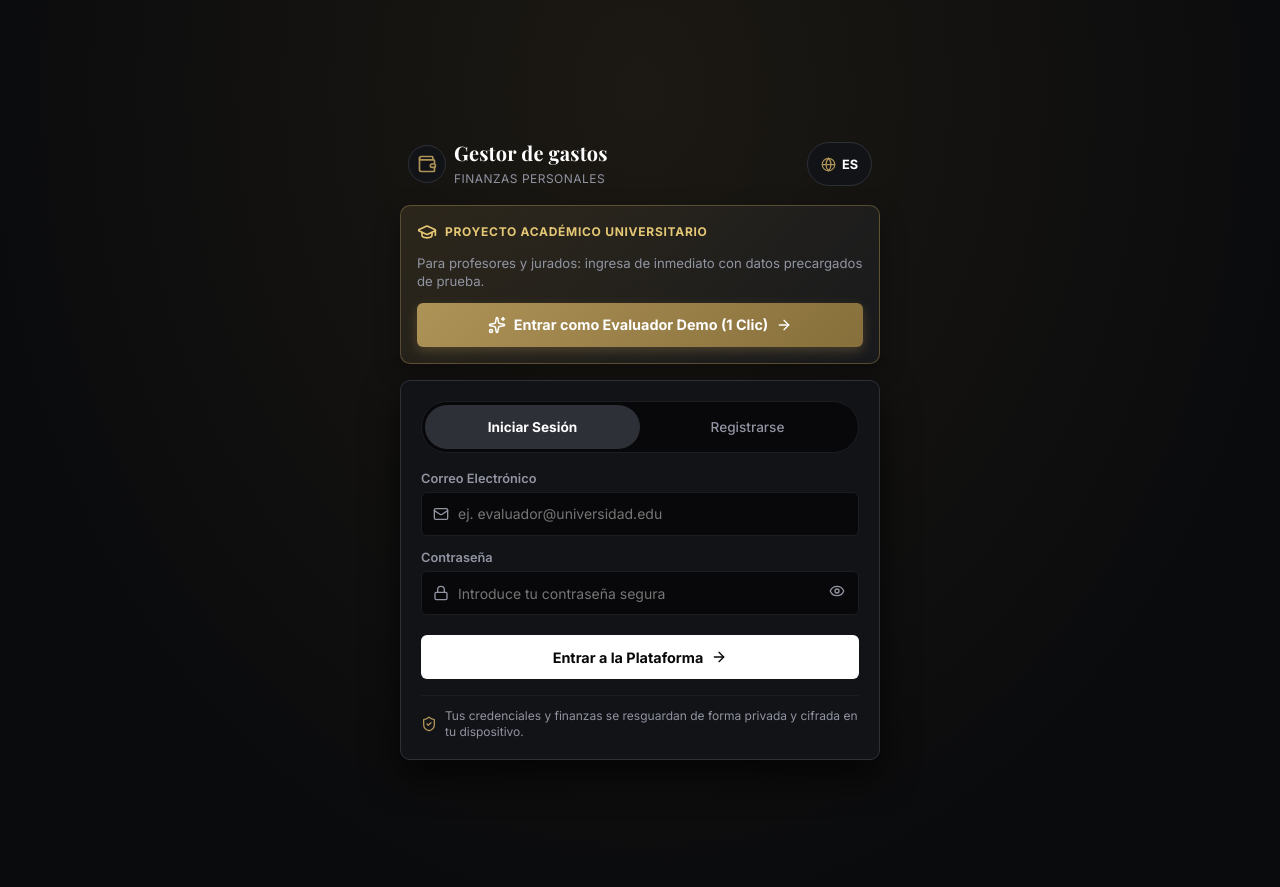
it: Autenticación y Perfiles Universitarios (Opción A) › permite cerrar sesión y redirige nuevamente al login
Click the button "Entrar como Evaluador Demo (1 Clic)" at (640, 325), box [417,303,863,347]
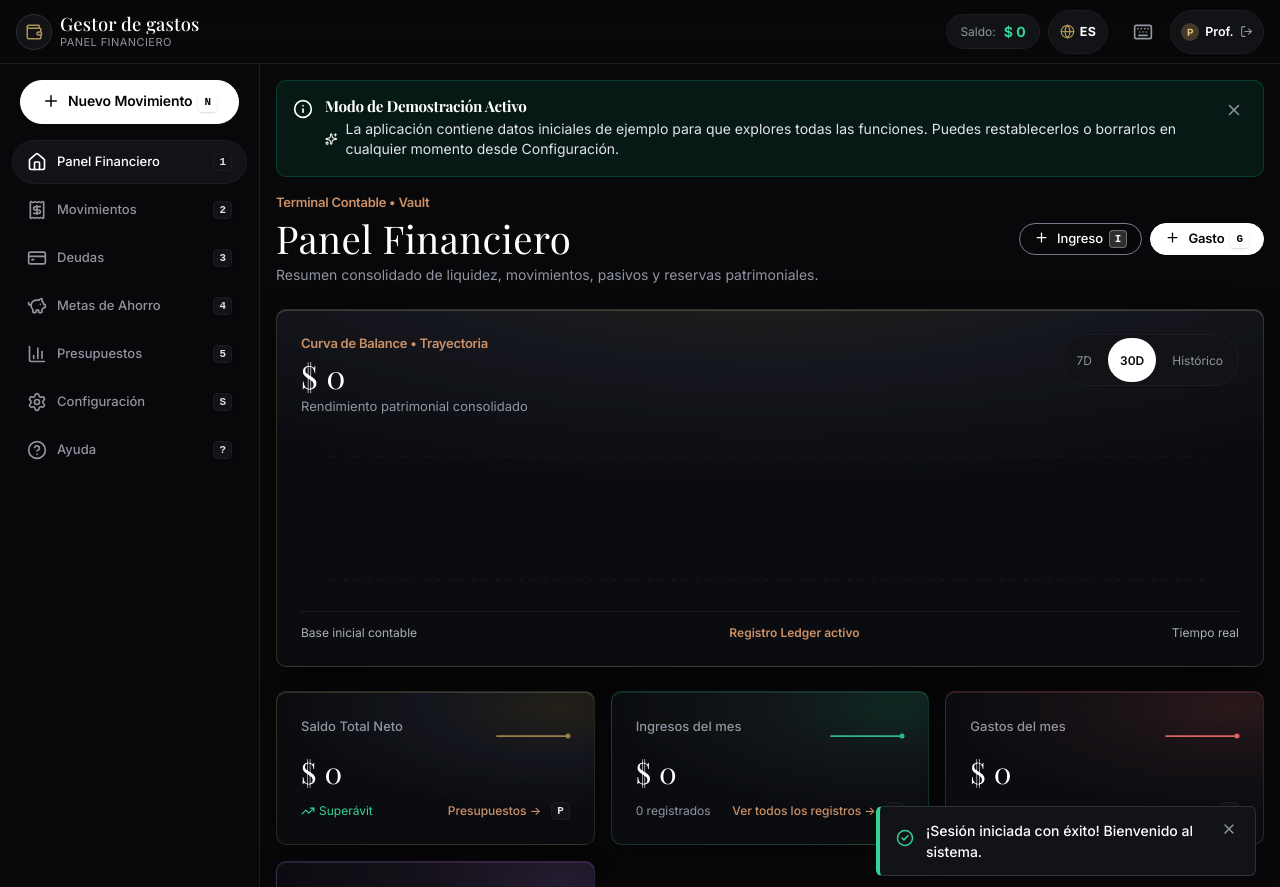
expect the text "Saldo Total Neto" is shown: met, box [301,717,403,736]
expect the button with aria-label "Cerrar Sesión" is shown: met
Click the button with aria-label "Cerrar Sesión" at (1217, 32), box [1170,10,1264,54]
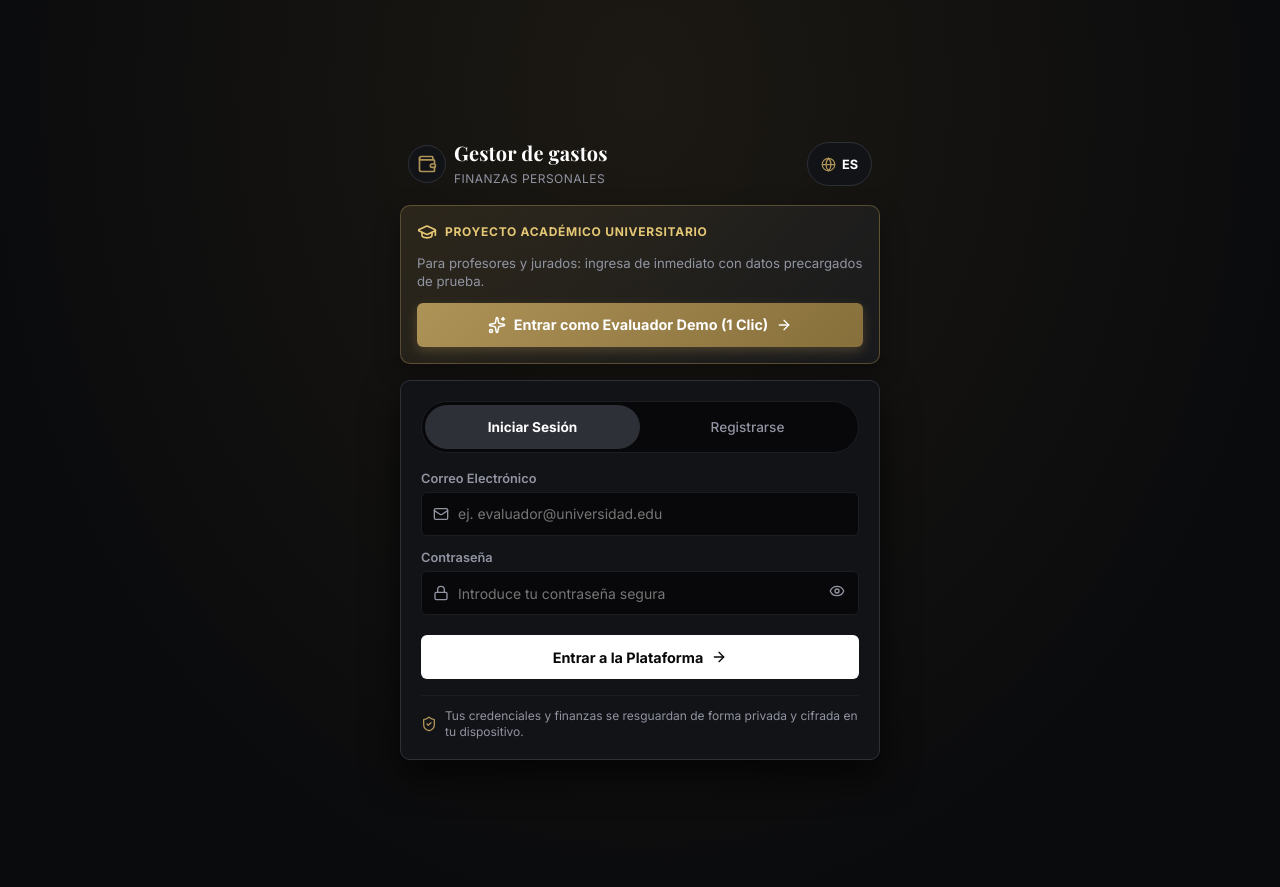
expect the text "Proyecto Académico Universitario" is shown: met, box [445,223,708,241]
expect the button "Entrar como Evaluador Demo (1 Clic)" is shown: met, box [417,303,863,347]
